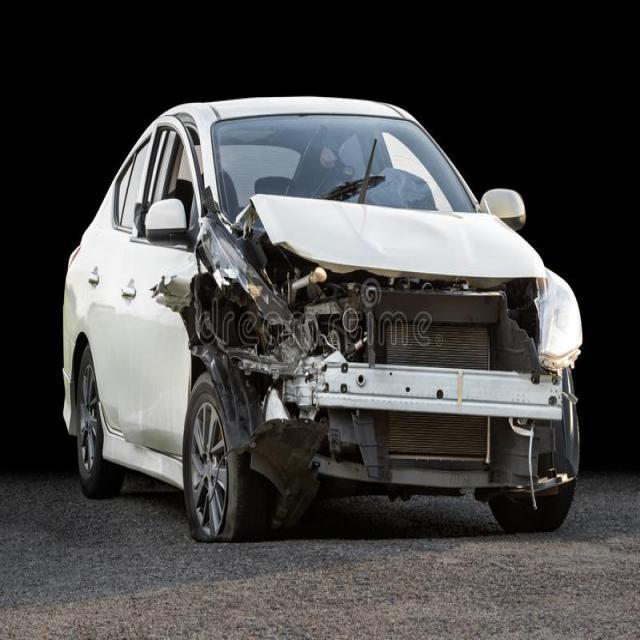bonnet-dent: (240, 187, 551, 310)
